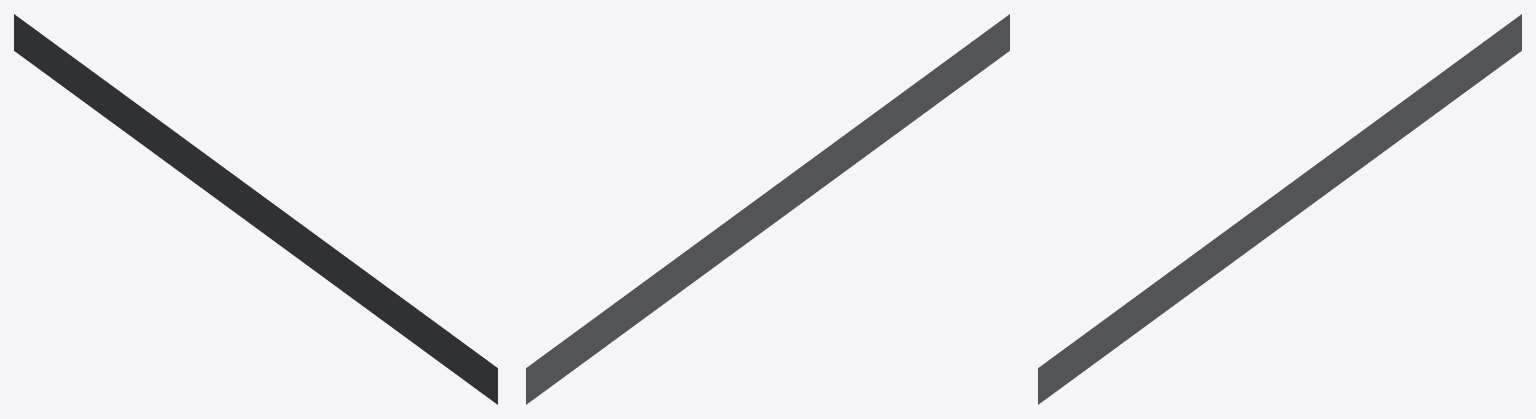
Rendered from kd_stage_135c43_4_95_bounded_piece_10.glb.
3 views of the same model, side by side, from view 1: azimuth 30°, elevation 25°; view 2: azimuth 150°, elevation 25°; view 3: azimuth 330°, elevation 25° (orthographic).
Visible parts, largest first — view 1: kd_stage_135c43_4_95_bounded_piece_10; view 2: kd_stage_135c43_4_95_bounded_piece_10; view 3: kd_stage_135c43_4_95_bounded_piece_10.
Part boxes in pixels (left/top/right/bottom): kd_stage_135c43_4_95_bounded_piece_10: left=14, top=14, right=497, bottom=404; kd_stage_135c43_4_95_bounded_piece_10: left=526, top=14, right=1009, bottom=404; kd_stage_135c43_4_95_bounded_piece_10: left=1038, top=14, right=1521, bottom=404.
Bounding box in the file's own units: 0 × 0.05 × 1.19.
Materials: 1 (1 with a texture image).
